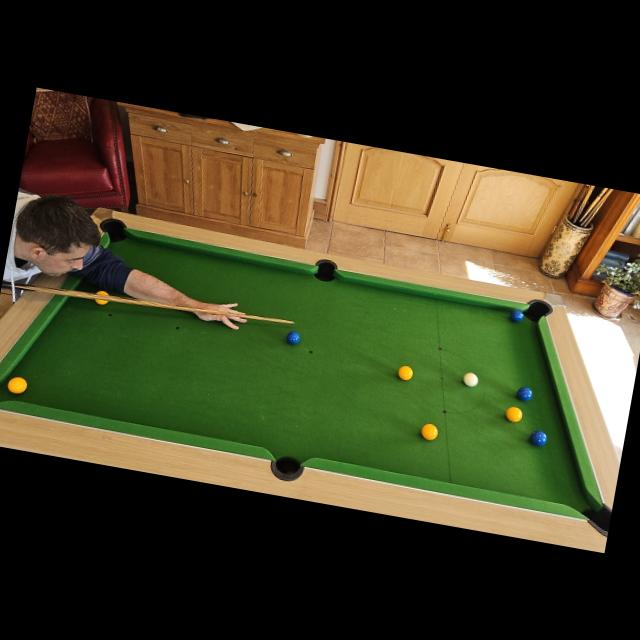Ball: (6, 375, 28, 394), (396, 365, 414, 382), (421, 422, 438, 440), (530, 429, 548, 446), (516, 385, 533, 402), (462, 371, 480, 387), (93, 290, 110, 306), (505, 406, 522, 422), (286, 330, 300, 346), (510, 308, 524, 322)
